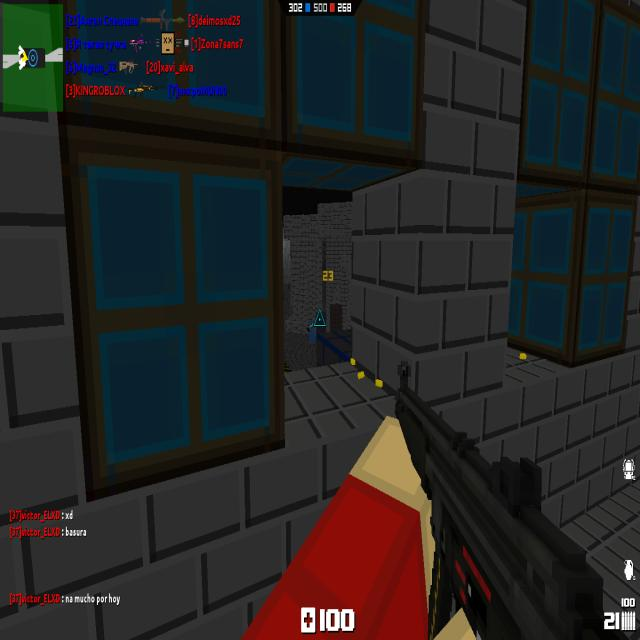enemy: (307, 319, 316, 346)
